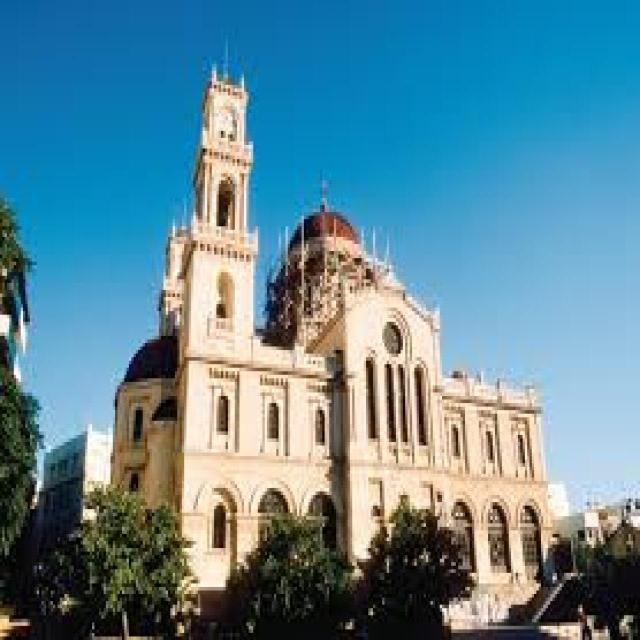Agios Minas: (109, 57, 561, 633)
